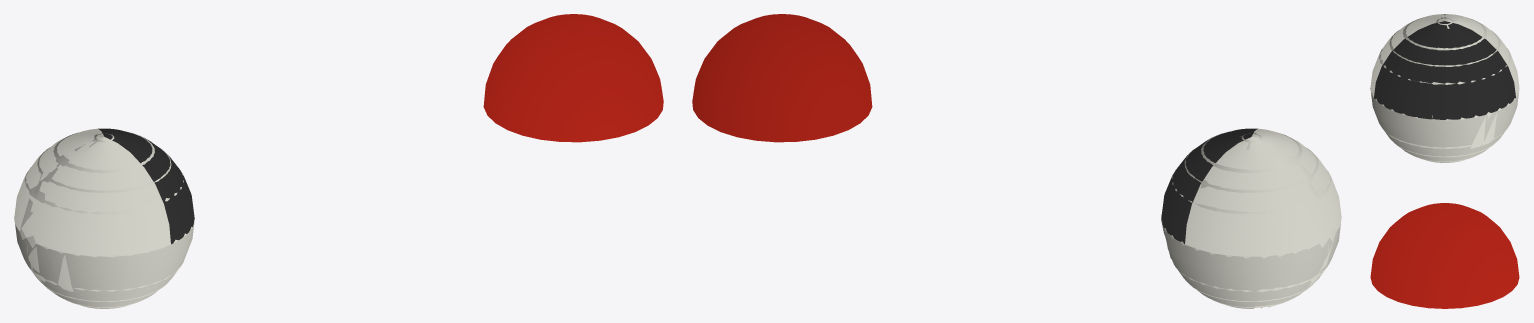
The model's file is draco-full.glb.
3 views of the same model, side by side, from view 1: azimuth 30°, elevation 25°; view 2: azimuth 150°, elevation 25°; view 3: azimuth 270°, elevation 25° (orthographic). The views are drawn at different scales.
Visible parts, largest first — view 1: C1, D1; view 2: C1, D1; view 3: C1, D1.
Boxes of the visible parts, x1=… form: C1: x1=14, y1=128, x2=194, y2=308; D1: x1=483, y1=14, x2=663, y2=142; C1: x1=1161, y1=128, x2=1341, y2=308; D1: x1=692, y1=14, x2=872, y2=142; C1: x1=1370, y1=14, x2=1519, y2=162; D1: x1=1370, y1=203, x2=1519, y2=308.
Size of what is drawn, in the model's own units: 0.008 by 0.002 by 0.002.
